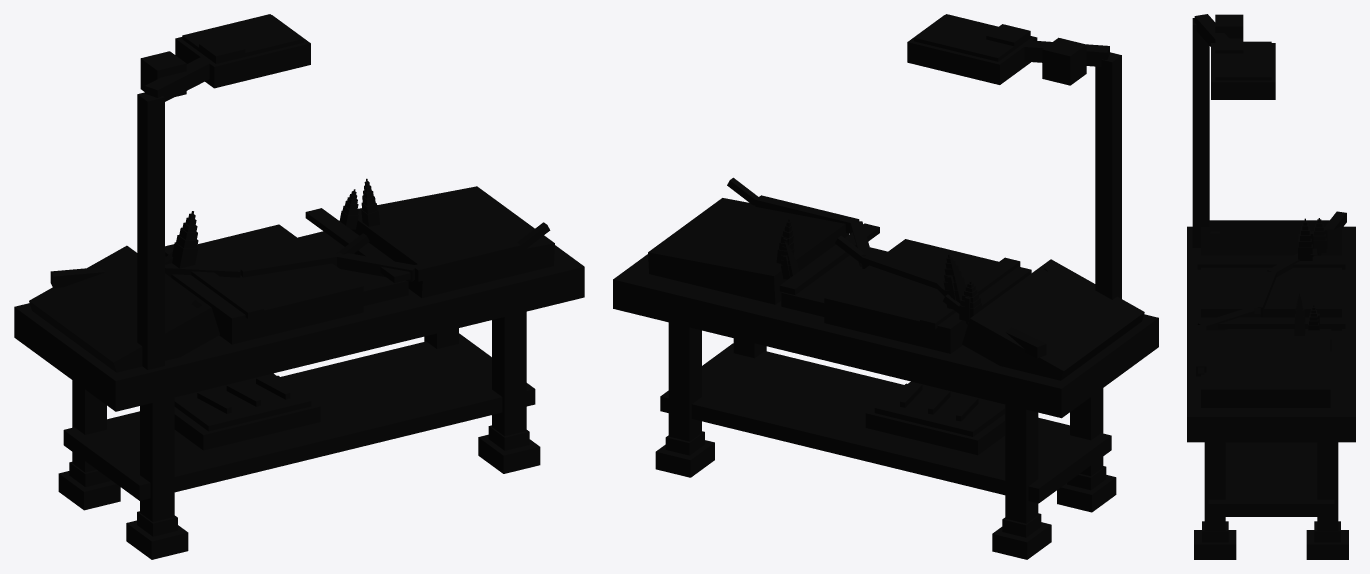
Rendered from surgery_table_eroded.obj.
3 renders of one model, left to right at view 1: azimuth 30°, elevation 25°; view 2: azimuth 150°, elevation 25°; view 3: azimuth 270°, elevation 25°, orthographic. The views are drawn at different scales.
Size of the model in its own units: 0.875 by 0.849 by 0.3281.
